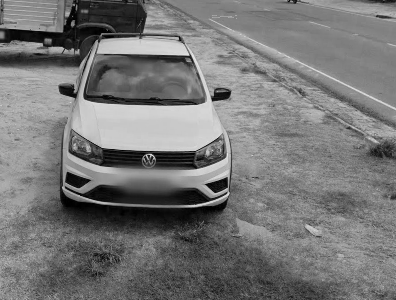car: (56, 29, 236, 223)
